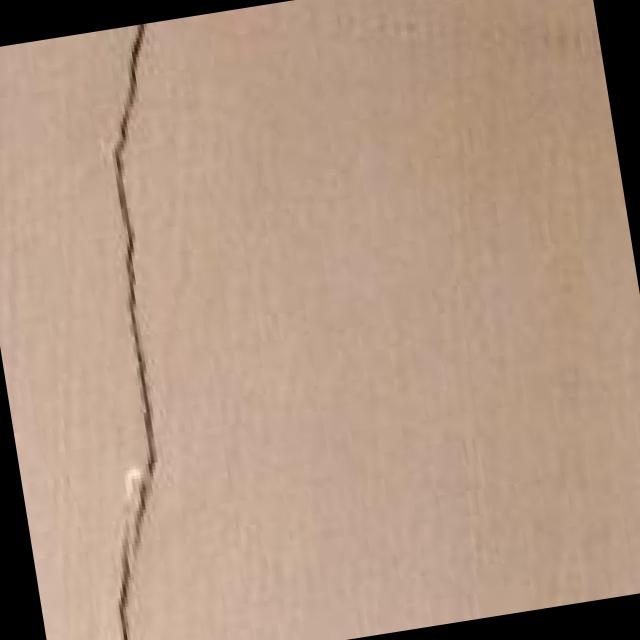crack: (0, 23, 268, 640)
